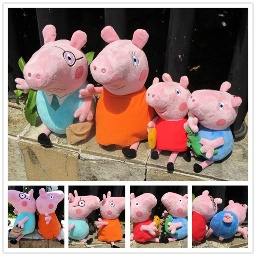Peppa: (145, 73, 193, 176), (94, 190, 124, 247), (191, 189, 221, 246), (36, 189, 62, 242), (131, 191, 157, 244)
